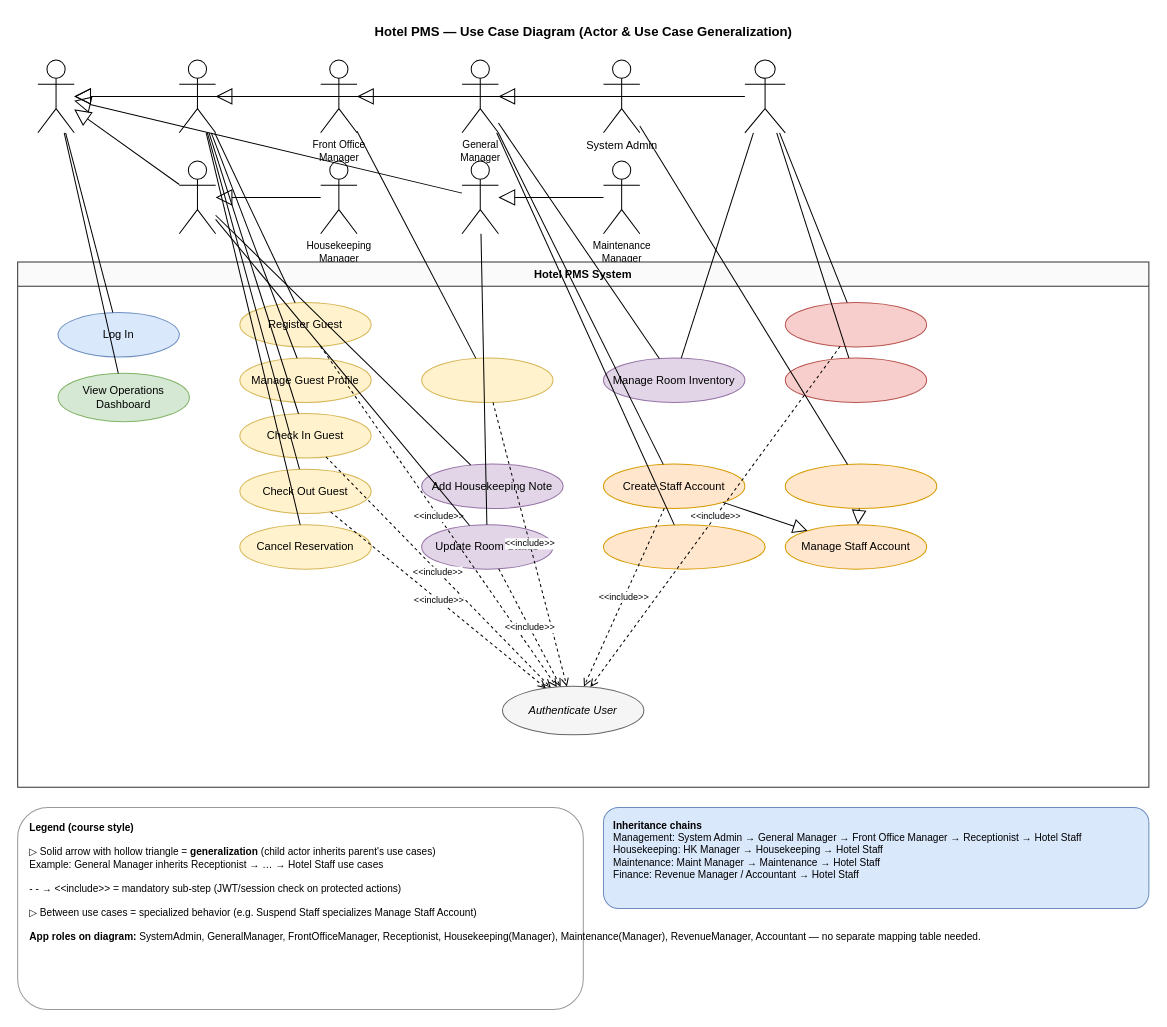
Some shapes in this 1167 by 1027 pixel diagram are drawn without their labels. Each missing label, with the centre of its shape:
Create Reservation: the point at 487,379
Hotel Staff: the point at 55,96
Housekeeping: the point at 197,197
Maintenance: the point at 479,197
Receptionist: the point at 197,96
Revenue Manager / Accountant: the point at 764,96
Suspend Staff Account: the point at 860,486
Update Property Settings: the point at 683,546
View Occupancy Report: the point at 855,324
View Revenue Report: the point at 855,379
